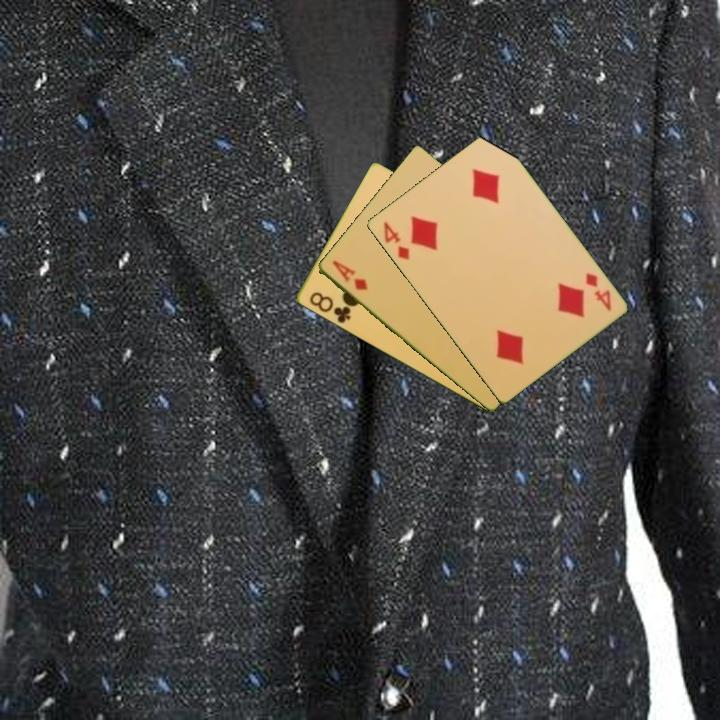4d: (379, 218, 412, 263), (581, 269, 614, 314)
8c: (305, 288, 355, 326)
Ad: (328, 257, 370, 293)
